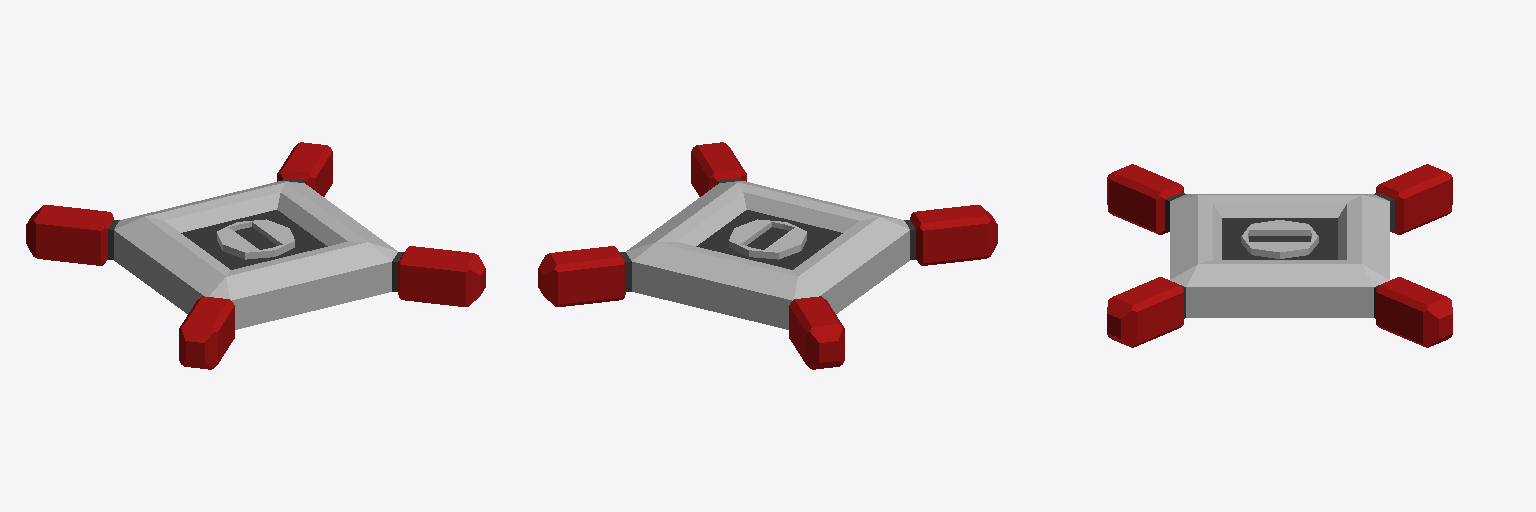
The model's file is mine.obj.
The picture shows the model from 3 angles: view 1: azimuth 30°, elevation 25°; view 2: azimuth 150°, elevation 25°; view 3: azimuth 270°, elevation 25°; orthographic projection.
Visible parts, largest first — view 1: pCube1; view 2: pCube1; view 3: pCube1.
Boxes of the visible parts, box(x1,y1,x2,y2) form: pCube1: box(26, 142, 485, 369); pCube1: box(538, 142, 997, 369); pCube1: box(1107, 164, 1452, 347).
Bounding box in the file's own units: 23.75 × 4.02 × 23.75.